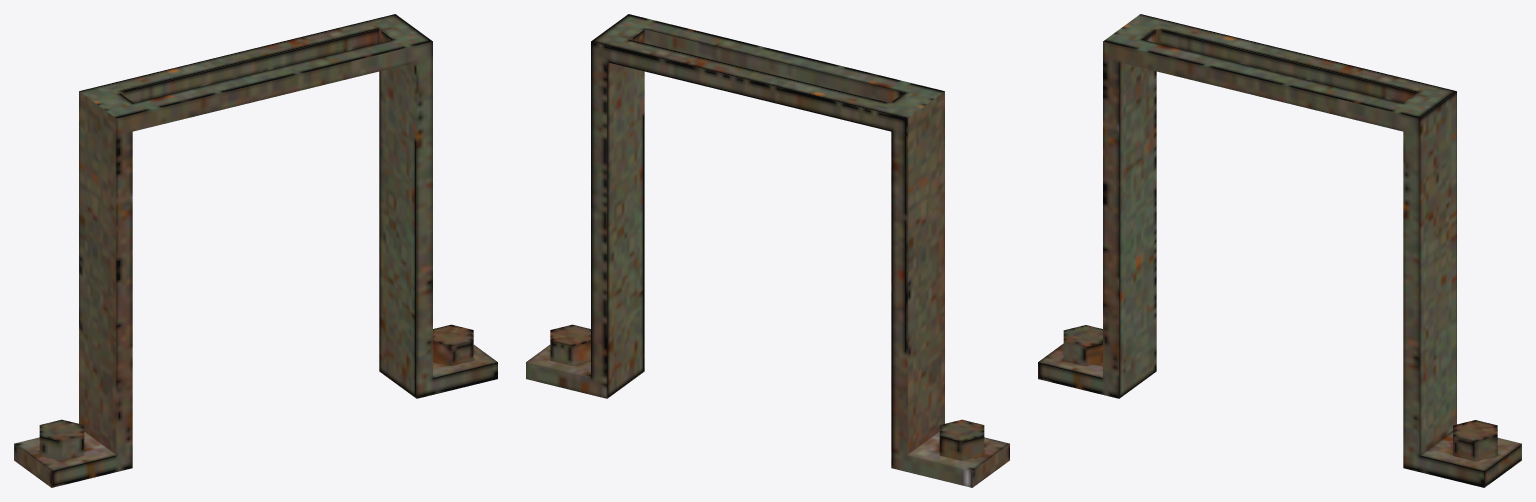
File: Pipe_Set_3_2.glb
The picture shows the model from 3 angles, left to right: view 1: azimuth 30°, elevation 25°; view 2: azimuth 150°, elevation 25°; view 3: azimuth 330°, elevation 25°; orthographic projection.
Parts seen in each view (by area): view 1: Pipe_Set_3_2; view 2: Pipe_Set_3_2; view 3: Pipe_Set_3_2.
Part boxes in pixels (x1,y1,x2,y2): Pipe_Set_3_2: (14,14,497,487); Pipe_Set_3_2: (526,14,1009,487); Pipe_Set_3_2: (1038,14,1521,487).
Size of the model in its own units: 0.3438 by 0.2602 by 0.05.
Materials: 1 (1 with a texture image).
